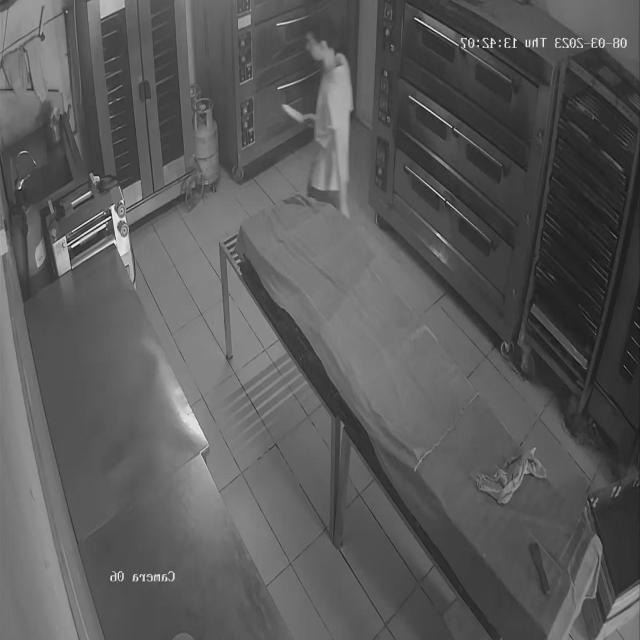Knife: (278, 100, 311, 134)
